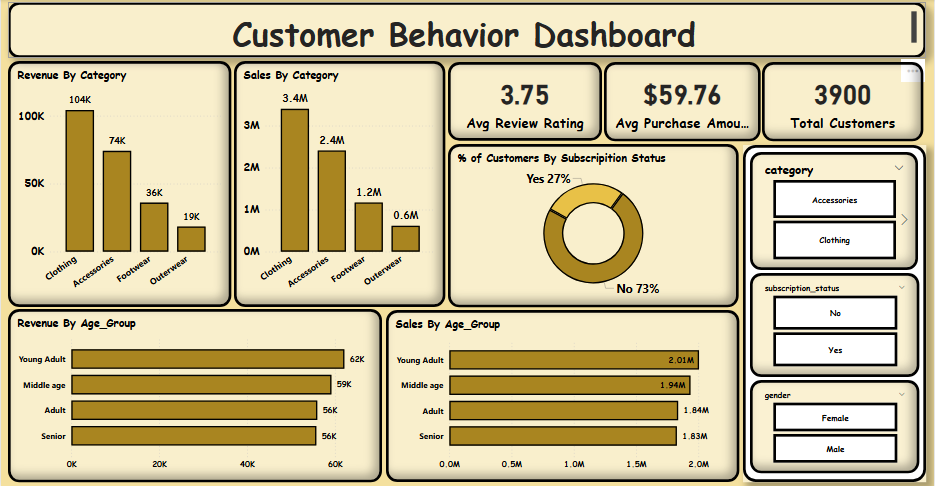

The page's visual inventory and layout, read from the dashboard file:
{"tool":"powerbi","page":{"name":"Page 1","canvas":[1400,735],"ordinal":0},"visuals":[{"type":"textbox","box":[10.7,4,1377,84],"z":0},{"type":"donutChart","title":"% of Customers By Subscripition Status","fields":{"Category":["Sheet1.subscription_status"],"Y":["CountNonNull(Sheet1.subscription_status)"]},"box":[671,218,436,245],"z":1000},{"type":"columnChart","title":"Revenue By Category","fields":{"Category":["Sheet1.category"],"Y":["Sheet1.revenue"]},"box":[10.5,92.6,334.6,369],"z":2000},{"type":"columnChart","title":"Sales By Category","fields":{"Category":["Sheet1.category"],"Y":["Sum(Sheet1.customer_id)"]},"box":[349.5,93,316.7,369],"z":3000},{"type":"barChart","title":"Revenue By Age_Group","fields":{"Category":["Sheet1.age_group"],"Y":["Sheet1.revenue"]},"box":[10.5,465,561,259.5],"z":4000},{"type":"barChart","title":"Sales By Age_Group","fields":{"Category":["Sheet1.age_group"],"Y":["Sum(Sheet1.customer_id)"]},"box":[577.5,466.5,529.5,258],"z":5000},{"type":"card","fields":{"Values":["Sheet1.Total Customers"]},"box":[1142,94,242,118.9],"z":6000},{"type":"card","fields":{"Values":["Sheet1.Avg Purchase Amount"]},"box":[904,94,235,118.9],"z":7000},{"type":"card","fields":{"Values":["Sheet1.Avg Review Rating"]},"box":[670,94,231,118],"z":8001},{"type":"shape","box":[1113,219,274.5,505.5],"z":8002},{"type":"slicer","fields":{"Values":["Sheet1.subscription_status"]},"box":[1123.8,411,254,156],"z":8003},{"type":"slicer","fields":{"Values":["Sheet1.gender"]},"box":[1123.8,571,254,140],"z":8004},{"type":"slicer","fields":{"Values":["Sheet1.category"]},"box":[1123.8,229,251.6,176.9],"z":8005}]}

Visuals, with their boxes in screenshot pixels (x1, y1, x2, y2), scaled from the page's 1400x735 canvas onto the 935x486 screenshot:
textbox: 7/3/927/58
"% of Customers By Subscripition Status" donutChart: 448/144/739/306
"Revenue By Category" columnChart: 7/61/230/305
"Sales By Category" columnChart: 233/61/445/305
"Revenue By Age_Group" barChart: 7/307/382/479
"Sales By Age_Group" barChart: 386/308/739/479
card - Sheet1.Total Customers: 763/62/924/141
card - Sheet1.Avg Purchase Amount: 604/62/761/141
card - Sheet1.Avg Review Rating: 447/62/602/140
shape: 743/145/927/479
slicer - Sheet1.subscription_status: 751/272/920/375
slicer - Sheet1.gender: 751/378/920/470
slicer - Sheet1.category: 751/151/919/268
